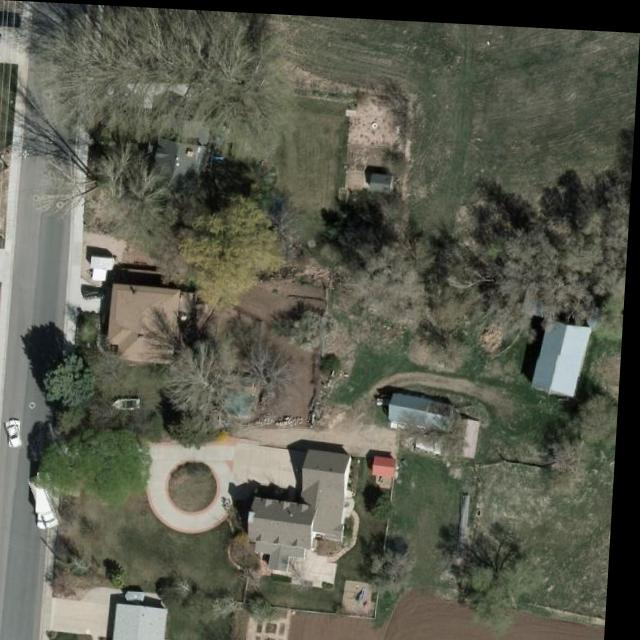vehicle: (36, 472, 66, 528), (9, 419, 29, 450), (85, 284, 113, 300)
